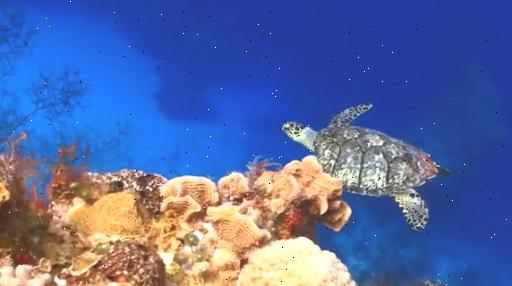Fish: (283, 104, 450, 230)
